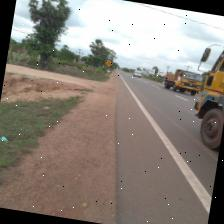yellowboard: (102, 58, 114, 68)
